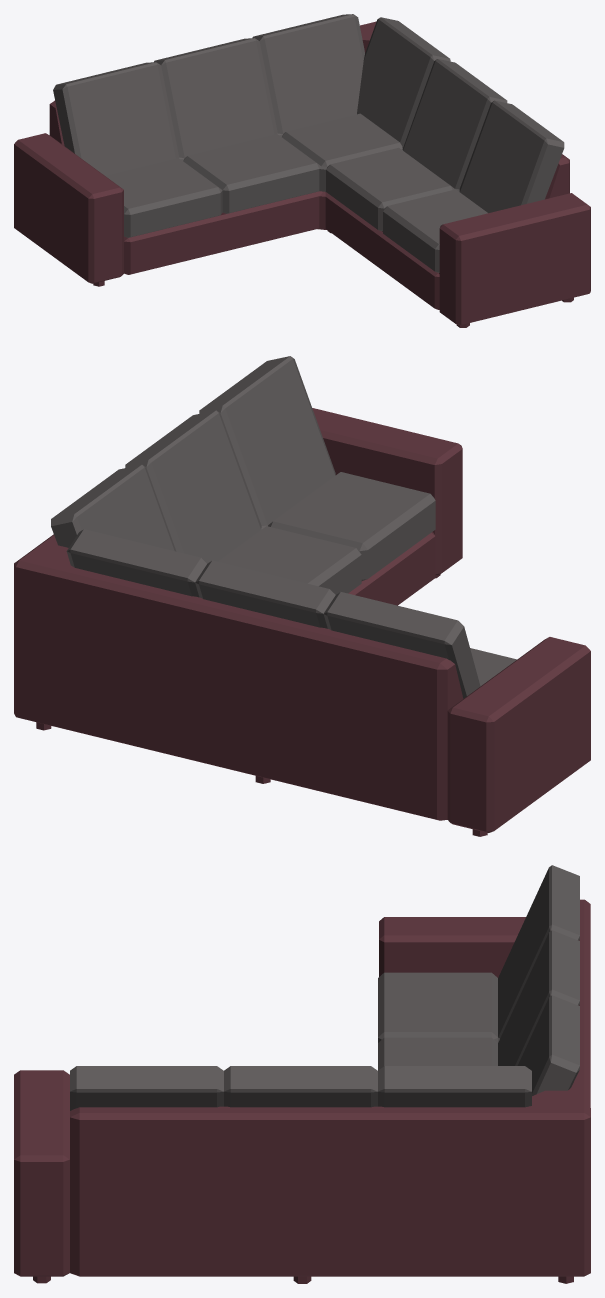
The model's file is sofa-modern-corner.fbx.
3 views of the same model, one above another, from view 1: azimuth 30°, elevation 25°; view 2: azimuth 150°, elevation 25°; view 3: azimuth 270°, elevation 25° (orthographic). The views are drawn at different scales.
Visible parts, largest first — view 1: sofa-modern-corner; view 2: sofa-modern-corner; view 3: sofa-modern-corner.
Boxes of the visible parts, box(x1,y1,x2,y2) form: sofa-modern-corner: box(14, 14, 590, 327); sofa-modern-corner: box(14, 356, 590, 836); sofa-modern-corner: box(14, 865, 590, 1283).
Size of the model in its own units: 2.58 by 1.03 by 2.58.
